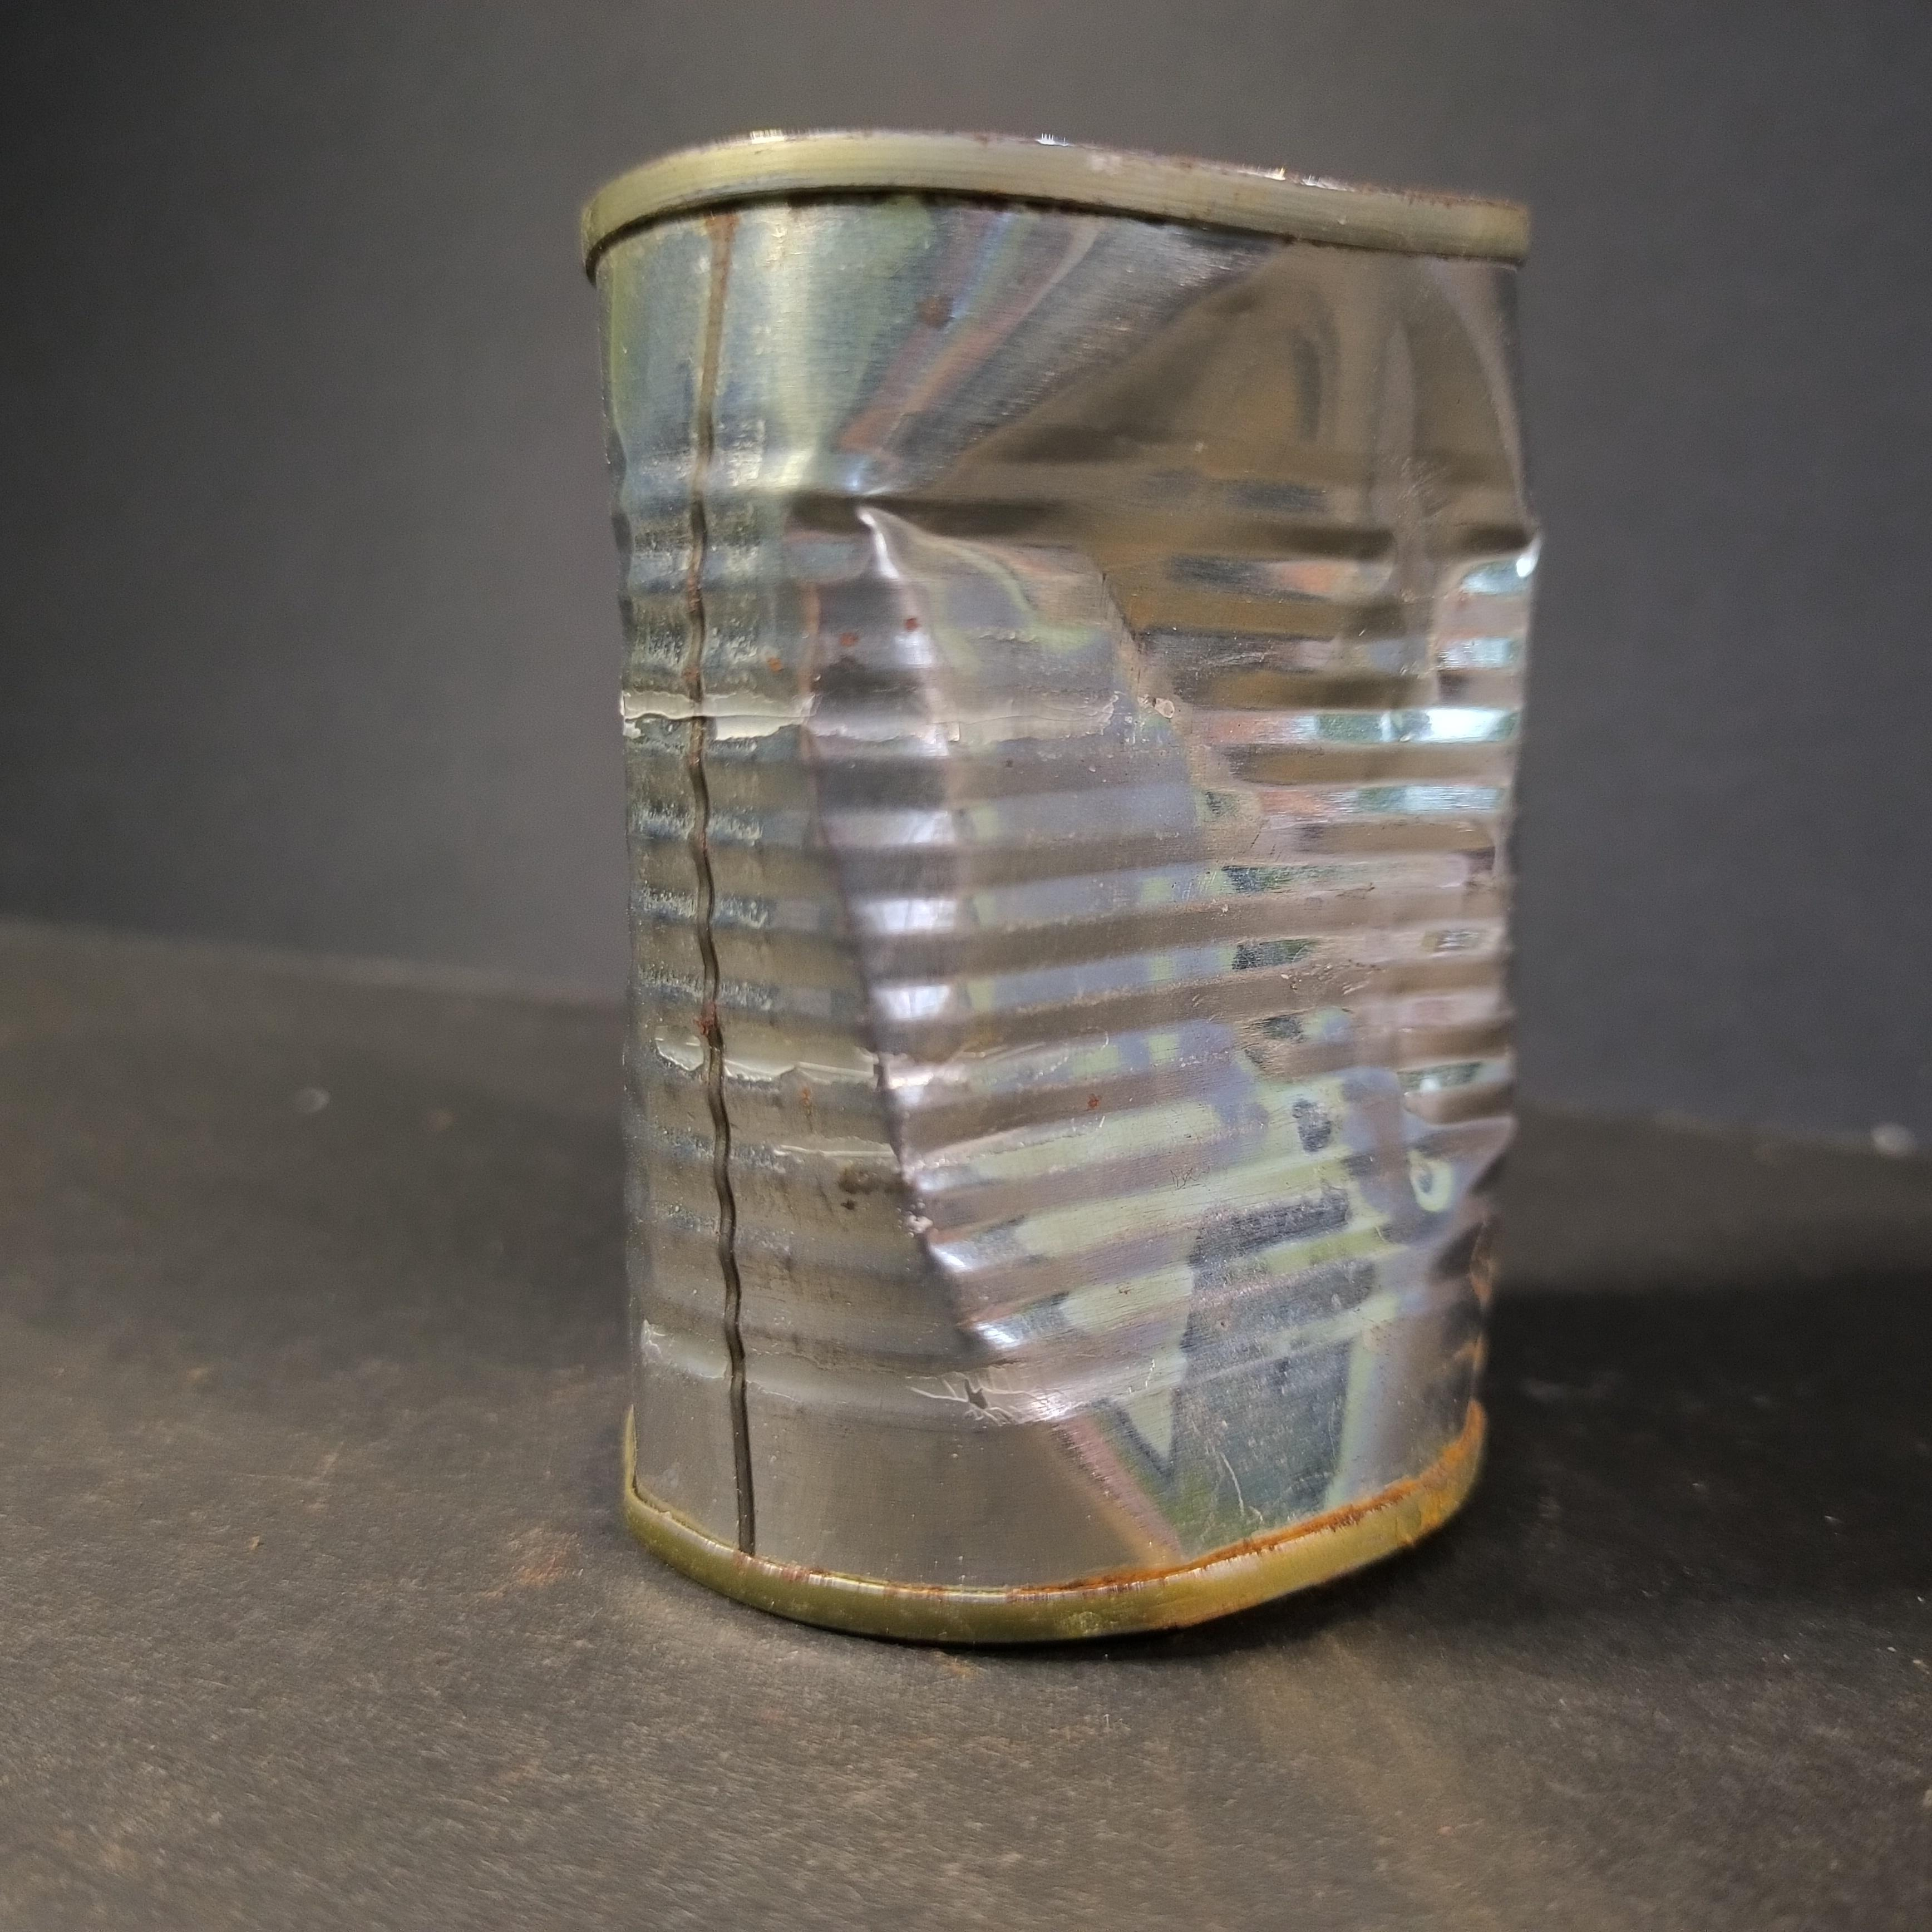Dented: (543, 97, 1566, 1661)
